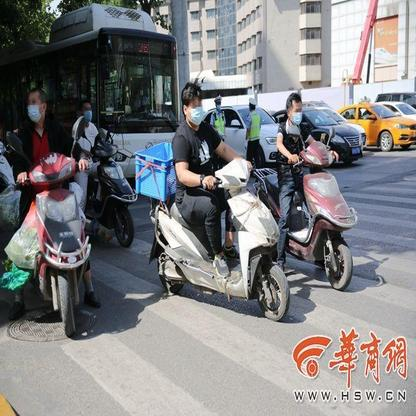target: (141, 82, 291, 321), (8, 87, 103, 340), (253, 93, 358, 292)
